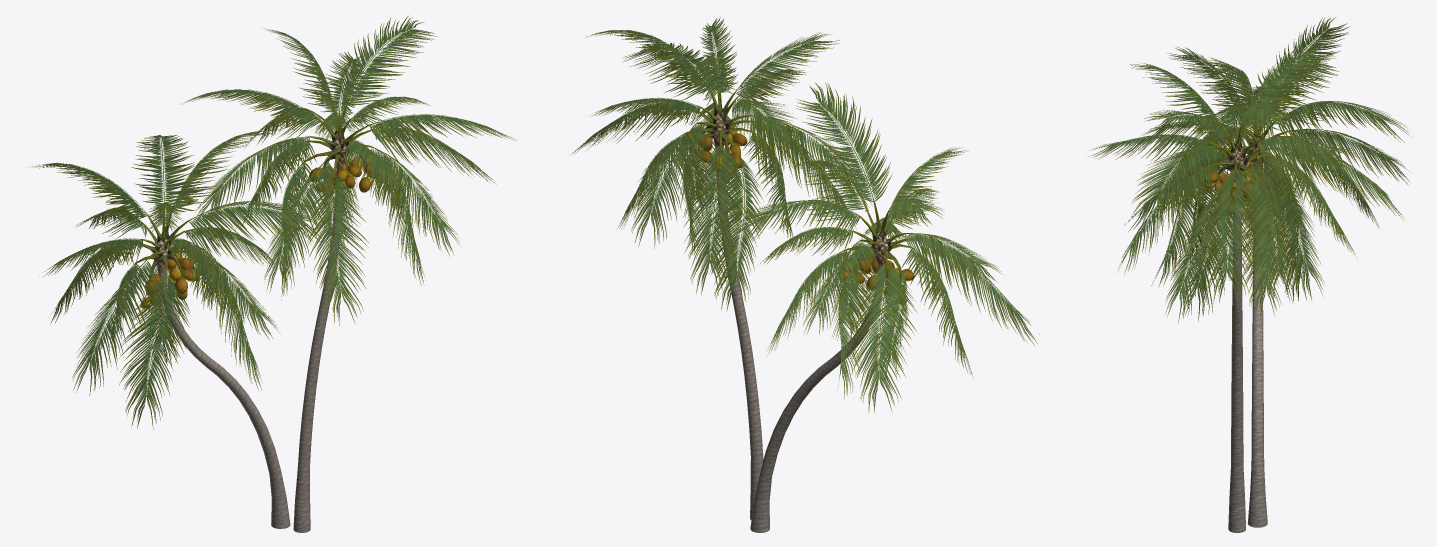
File: palm.glb
The picture shows the model from 3 angles, left to right: view 1: azimuth 30°, elevation 25°; view 2: azimuth 150°, elevation 25°; view 3: azimuth 270°, elevation 25°; orthographic projection. The views are drawn at different scales.
Parts seen in each view (by area): view 1: Tree_2_Tree_2Mat_0, Tree_0_Tree_0Mat_0, Tree_3_Tree_3Mat_0, Tree_4_Tree_4Mat_0; view 2: Tree_2_Tree_2Mat_0, Tree_0_Tree_0Mat_0, Tree_3_Tree_3Mat_0, Tree_4_Tree_4Mat_0, Tree_1_Tree_1Mat_0; view 3: Tree_2_Tree_2Mat_0, Tree_0_Tree_0Mat_0, Tree_3_Tree_3Mat_0, Tree_4_Tree_4Mat_0.
Part boxes in pixels (x1,y1,x2,y2): Tree_2_Tree_2Mat_0: [29, 15, 515, 429]; Tree_0_Tree_0Mat_0: [158, 170, 343, 532]; Tree_3_Tree_3Mat_0: [132, 98, 378, 295]; Tree_4_Tree_4Mat_0: [140, 154, 375, 308]; Tree_2_Tree_2Mat_0: [569, 17, 1039, 413]; Tree_0_Tree_0Mat_0: [716, 152, 885, 532]; Tree_3_Tree_3Mat_0: [679, 82, 916, 291]; Tree_4_Tree_4Mat_0: [685, 126, 914, 305]; Tree_1_Tree_1Mat_0: [712, 112, 888, 270]; Tree_2_Tree_2Mat_0: [1089, 17, 1410, 323]; Tree_0_Tree_0Mat_0: [1228, 201, 1267, 532]; Tree_3_Tree_3Mat_0: [1204, 117, 1296, 202]; Tree_4_Tree_4Mat_0: [1202, 162, 1283, 217].
Bounding box in the file's own units: 6.3 × 6.28 × 4.02.
Materials: 5 (5 with a texture image).
